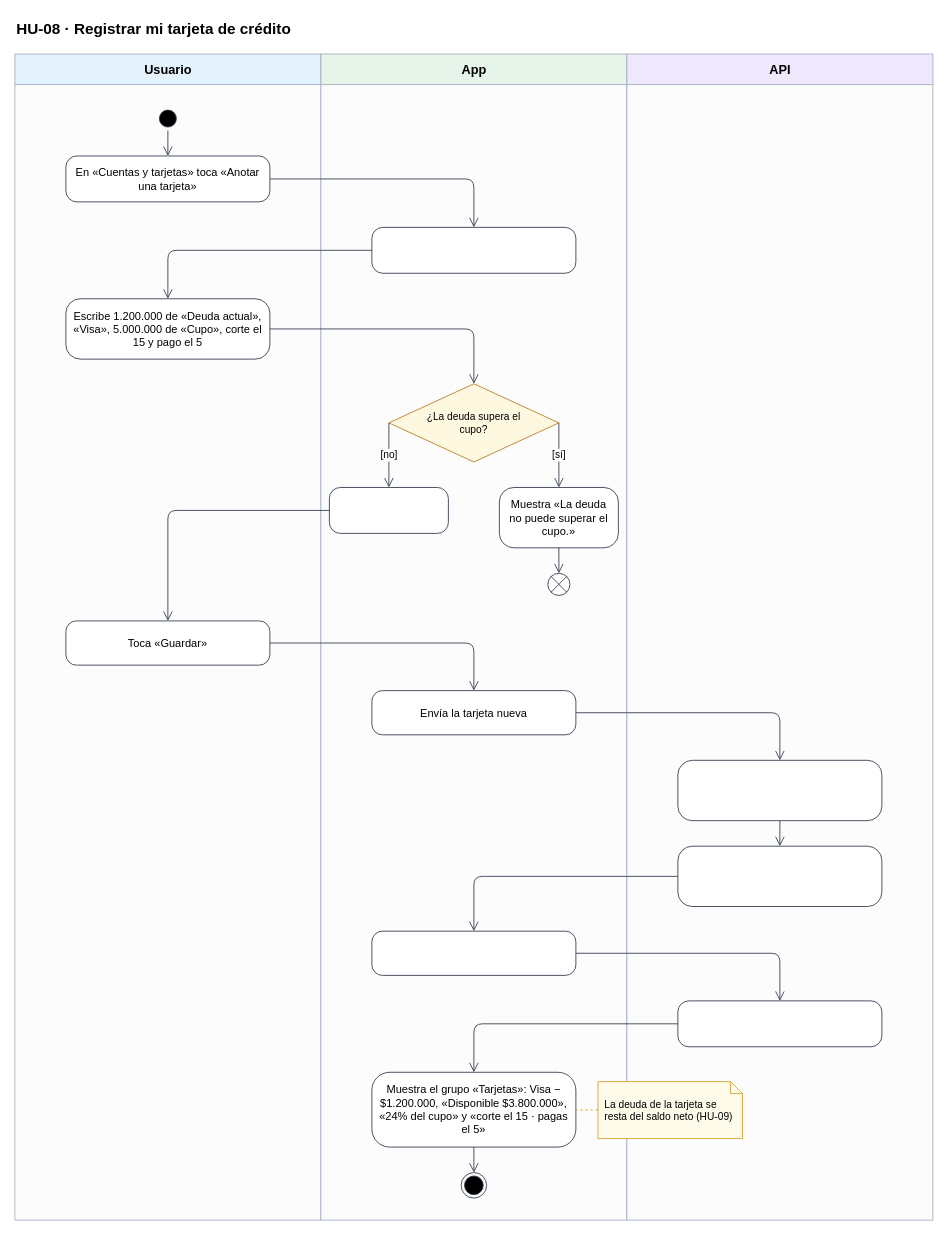
Some shapes in this 948 by 1235 pixel diagram are drawn without their labels. The shapes that lost their labels are listed below. From the top down, each one's centre as x and y in pixels, then its label:
the point at 473,250: Abre el formulario «Nueva tarjeta»
the point at 388,510: Habilita «Guardar»
the point at 779,790: Valida cupo, deuda, días de corte y pago, y el límite del plan
the point at 779,876: Crea la tarjeta como una entidad propia, separada de las cuentas
the point at 473,952: Actualiza las vistas de dinero
the point at 779,1023: Suma la deuda de las tarjetas y recalcula el saldo neto
